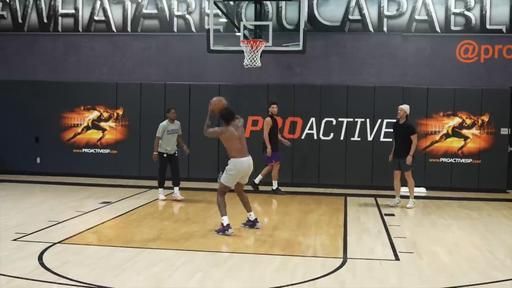ball: (210, 96, 228, 113)
human: (203, 106, 260, 235), (152, 107, 190, 201), (252, 101, 290, 194), (388, 104, 418, 208)
rim: (240, 40, 264, 68)
